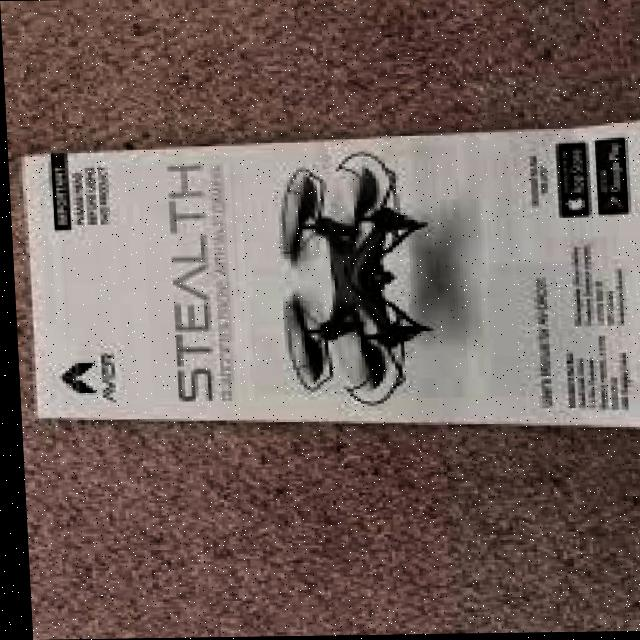drone: (264, 146, 448, 418)
